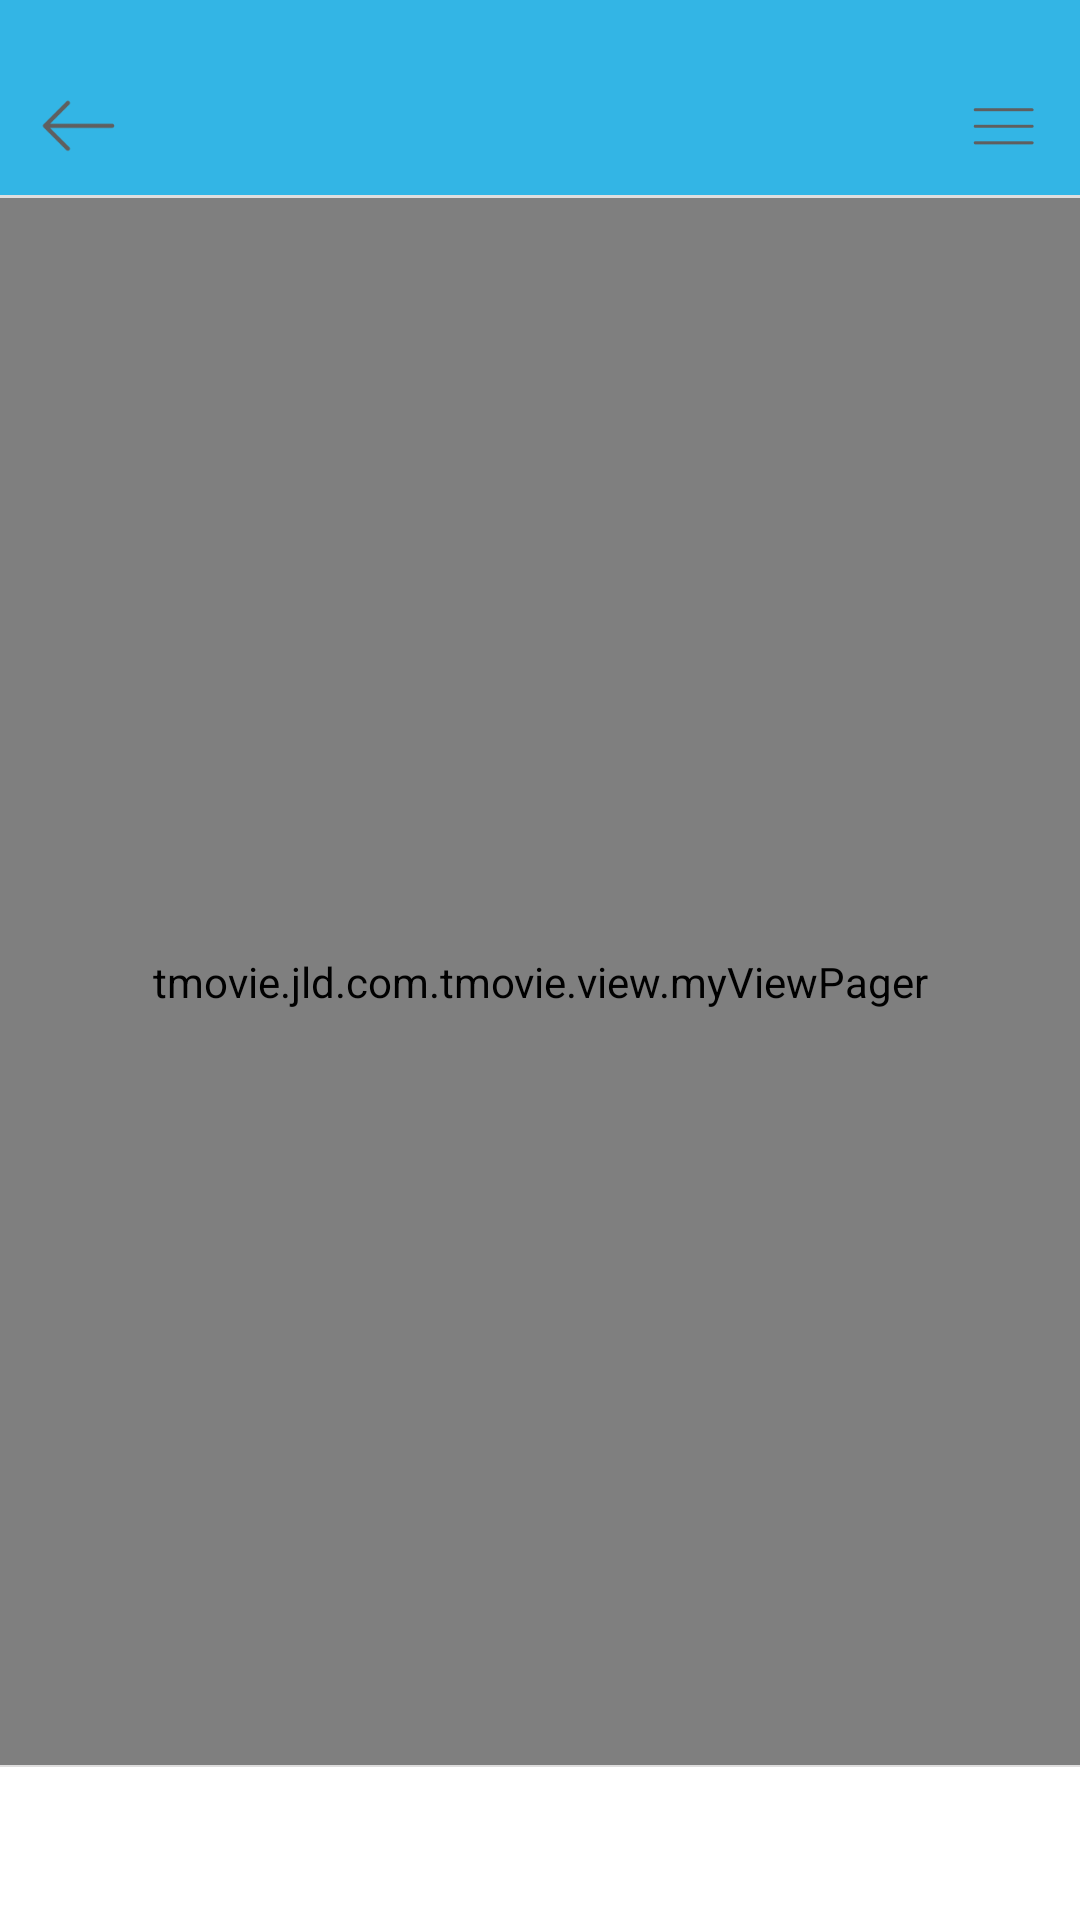

Where to tap for icons on this 1080×1920 app screen, as [x,y]:
menu: [1003,126]
